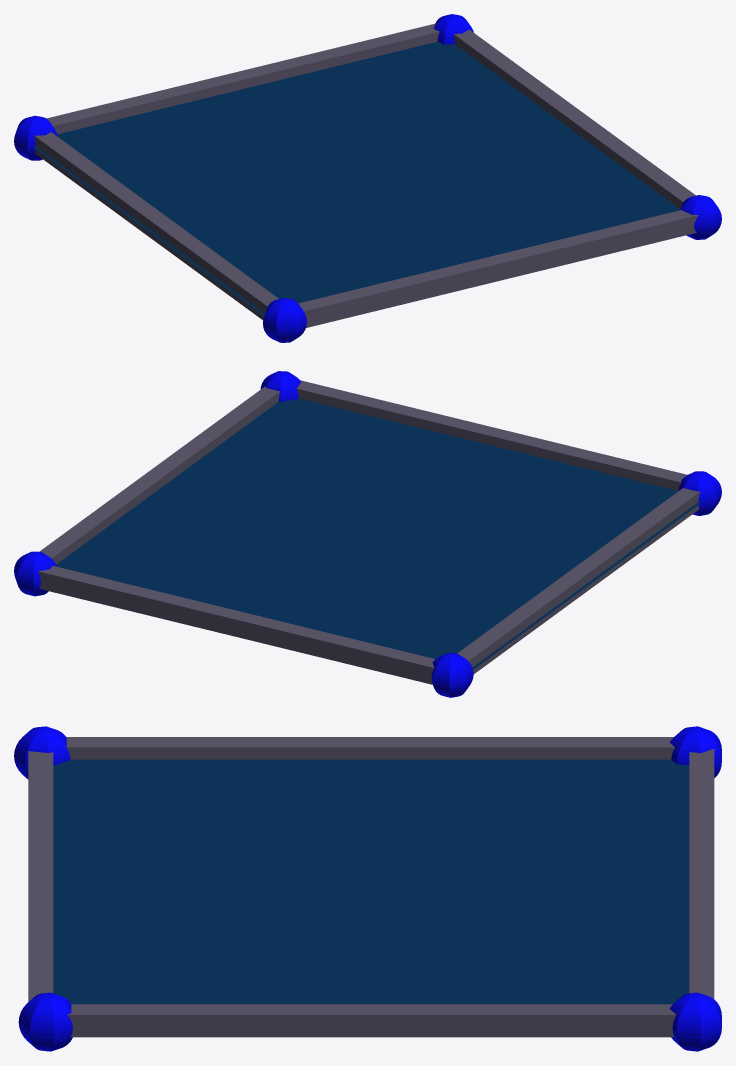
The model's file is RotateFloor(Opposition).obj.
The picture shows the model from 3 angles, top to bottom: view 1: azimuth 30°, elevation 25°; view 2: azimuth 150°, elevation 25°; view 3: azimuth 270°, elevation 25°; orthographic projection. The views are drawn at different scales.
Parts seen in each view (by area): view 1: 平面, 球.001; view 2: 平面, 球.001; view 3: 平面, 球.001.
Part boxes in pixels (x1=…): 平面: x1=34, y1=41, x2=680, y2=314; 球.001: x1=14, y1=14, x2=721, y2=342; 平面: x1=56, y1=398, x2=700, y2=668; 球.001: x1=14, y1=371, x2=721, y2=697; 平面: x1=53, y1=759, x2=689, y2=1004; 球.001: x1=14, y1=726, x2=721, y2=1051.
Size of the model in its own units: 9.86 by 0.8509 by 10.15.
